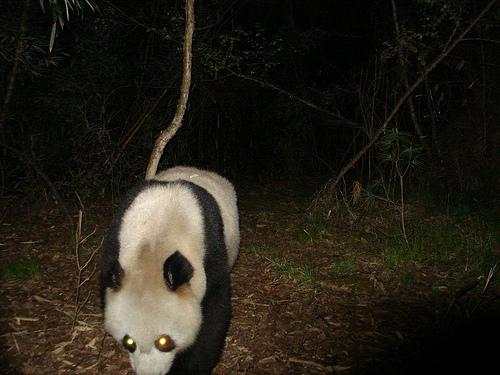panda: (99, 166, 239, 374)
